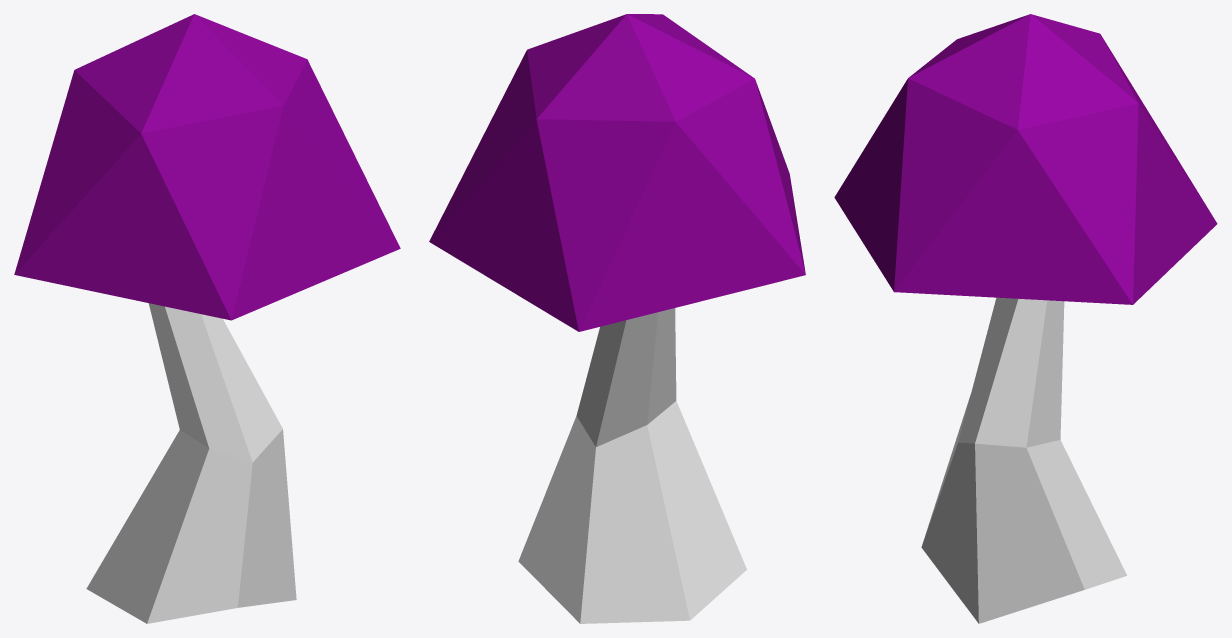
Rendered from mushroom_4.glb.
The picture shows the model from 3 angles, left to right: view 1: azimuth 30°, elevation 25°; view 2: azimuth 150°, elevation 25°; view 3: azimuth 270°, elevation 25°; orthographic projection. The views are drawn at different scales.
Visible parts, largest first — view 1: mushroom_4; view 2: mushroom_4; view 3: mushroom_4.
Part boxes in pixels (bbox=[...]): mushroom_4: bbox=[14, 14, 400, 623]; mushroom_4: bbox=[429, 14, 805, 623]; mushroom_4: bbox=[834, 14, 1217, 623].
Bounding box in the file's own units: 0.3068 × 0.5268 × 0.3189.
